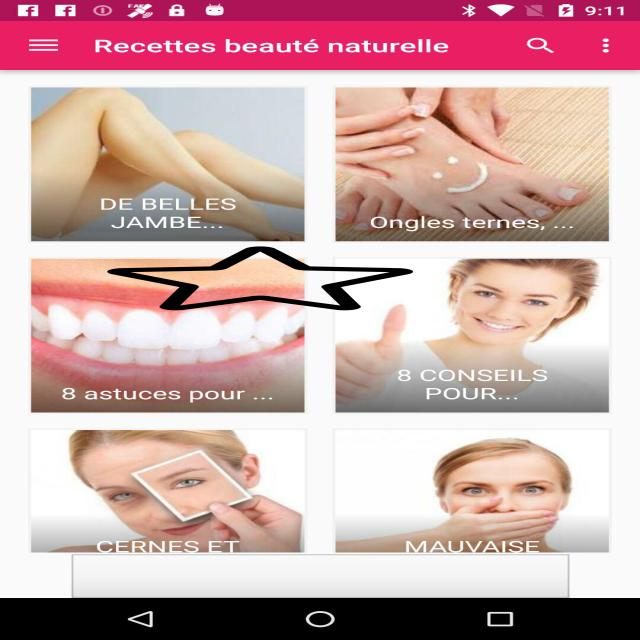forced continuity: (107, 245, 413, 312)
